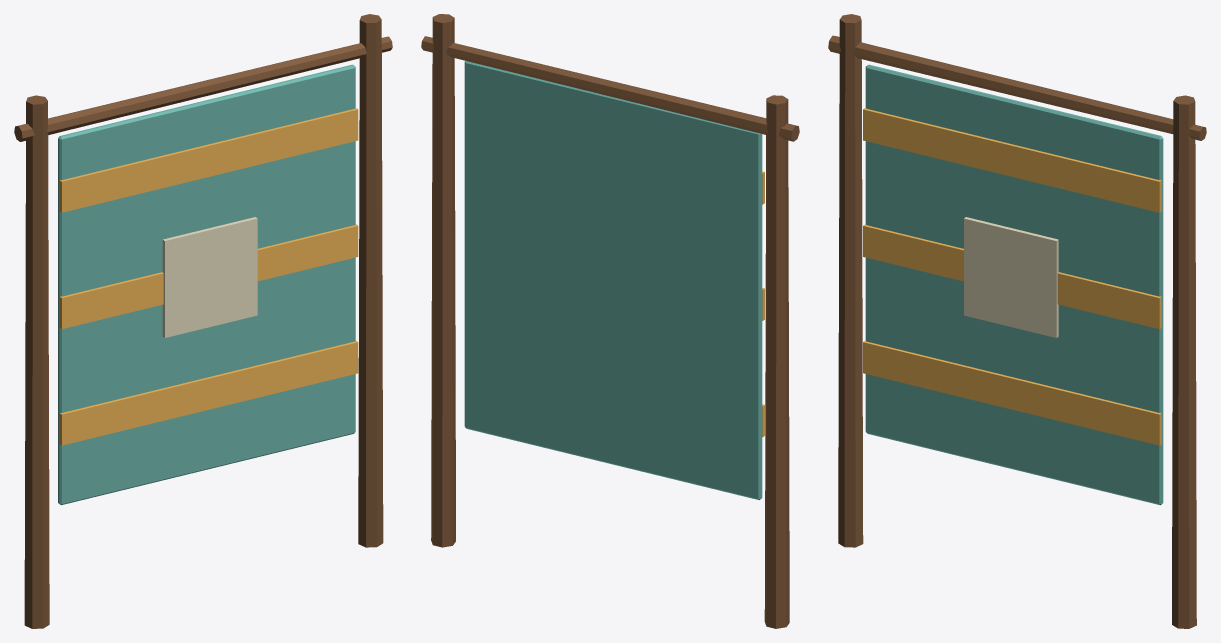
Rendered from CC_Tapestry.fbx.
3 views of the same model, side by side, from view 1: azimuth 30°, elevation 25°; view 2: azimuth 150°, elevation 25°; view 3: azimuth 330°, elevation 25° (orthographic).
Parts seen in each view (by area): view 1: Woven cloth, Tapestry post.001, Tapestry post, Woven band, Woven band.002, Woven center, Woven band.001, Hanging rod; view 2: Woven cloth, Tapestry post.001, Tapestry post, Hanging rod; view 3: Woven cloth, Tapestry post.001, Tapestry post, Woven band, Woven band.002, Woven center, Woven band.001, Hanging rod.
Part boxes in pixels (box(x1,y1,x2,y2)): Woven cloth: box(58, 64, 355, 505); Tapestry post.001: box(358, 14, 383, 547); Tapestry post: box(24, 95, 49, 628); Woven band: box(59, 340, 358, 445); Woven band.002: box(59, 108, 358, 212); Woven center: box(162, 217, 257, 337); Woven band.001: box(59, 224, 358, 328); Hanging rod: box(14, 36, 392, 141); Woven cloth: box(464, 61, 762, 499); Tapestry post.001: box(431, 14, 455, 547); Tapestry post: box(764, 95, 789, 628); Hanging rod: box(421, 36, 799, 141); Woven cloth: box(865, 64, 1163, 505); Tapestry post.001: box(1172, 95, 1196, 628); Tapestry post: box(838, 14, 863, 547); Woven band: box(863, 340, 1161, 445); Woven band.002: box(863, 108, 1161, 212); Woven center: box(964, 217, 1058, 337); Woven band.001: box(863, 224, 1161, 328); Hanging rod: box(828, 35, 1206, 140).
Bounding box in the file's own units: 2 × 2.7 × 0.1241.
